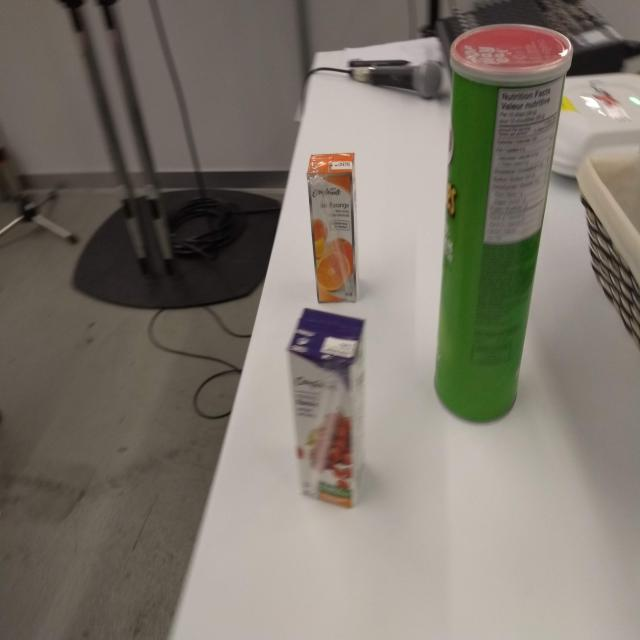grape_juice: (285, 309, 370, 512)
orange_juice: (304, 146, 361, 306)
pringles: (429, 16, 578, 425)
